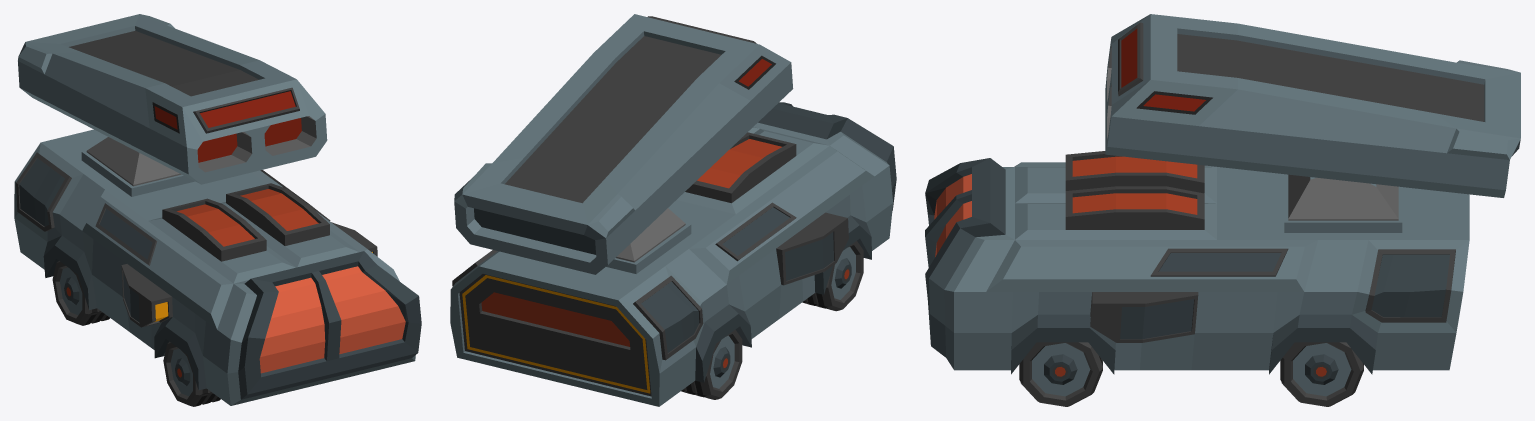
Rendered from MRLS.fbx.
3 views of the same model, side by side, from view 1: azimuth 30°, elevation 25°; view 2: azimuth 150°, elevation 25°; view 3: azimuth 270°, elevation 25° (orthographic). The views are drawn at different scales.
Parts seen in each view (by area): view 1: Vehicle, MRLS, Thingthatspins, WheelBack.R, WheelFront.R; view 2: Vehicle, MRLS, WheelBack.R, WheelFront.R, Thingthatspins; view 3: Vehicle, MRLS, Thingthatspins, WheelFront.L, WheelBack.L.
Part boxes in pixels (x1,y1,x2,y2): Vehicle: (14,129,421,405); MRLS: (18,14,327,184); Thingthatspins: (86,137,181,186); WheelBack.R: (52,261,109,325); WheelFront.R: (163,341,220,406); Vehicle: (450,102,896,406); MRLS: (454,14,793,274); WheelBack.R: (681,329,742,399); WheelFront.R: (802,241,863,311); Thingthatspins: (616,208,685,262); Vehicle: (925,151,1469,374); MRLS: (1105,14,1520,197); Thingthatspins: (1288,174,1398,220); WheelFront.L: (1019,342,1102,406); WheelBack.L: (1280,342,1363,406).
Size of the model in its own units: 735 by 809 by 1424.
1 material, 1 textured.
